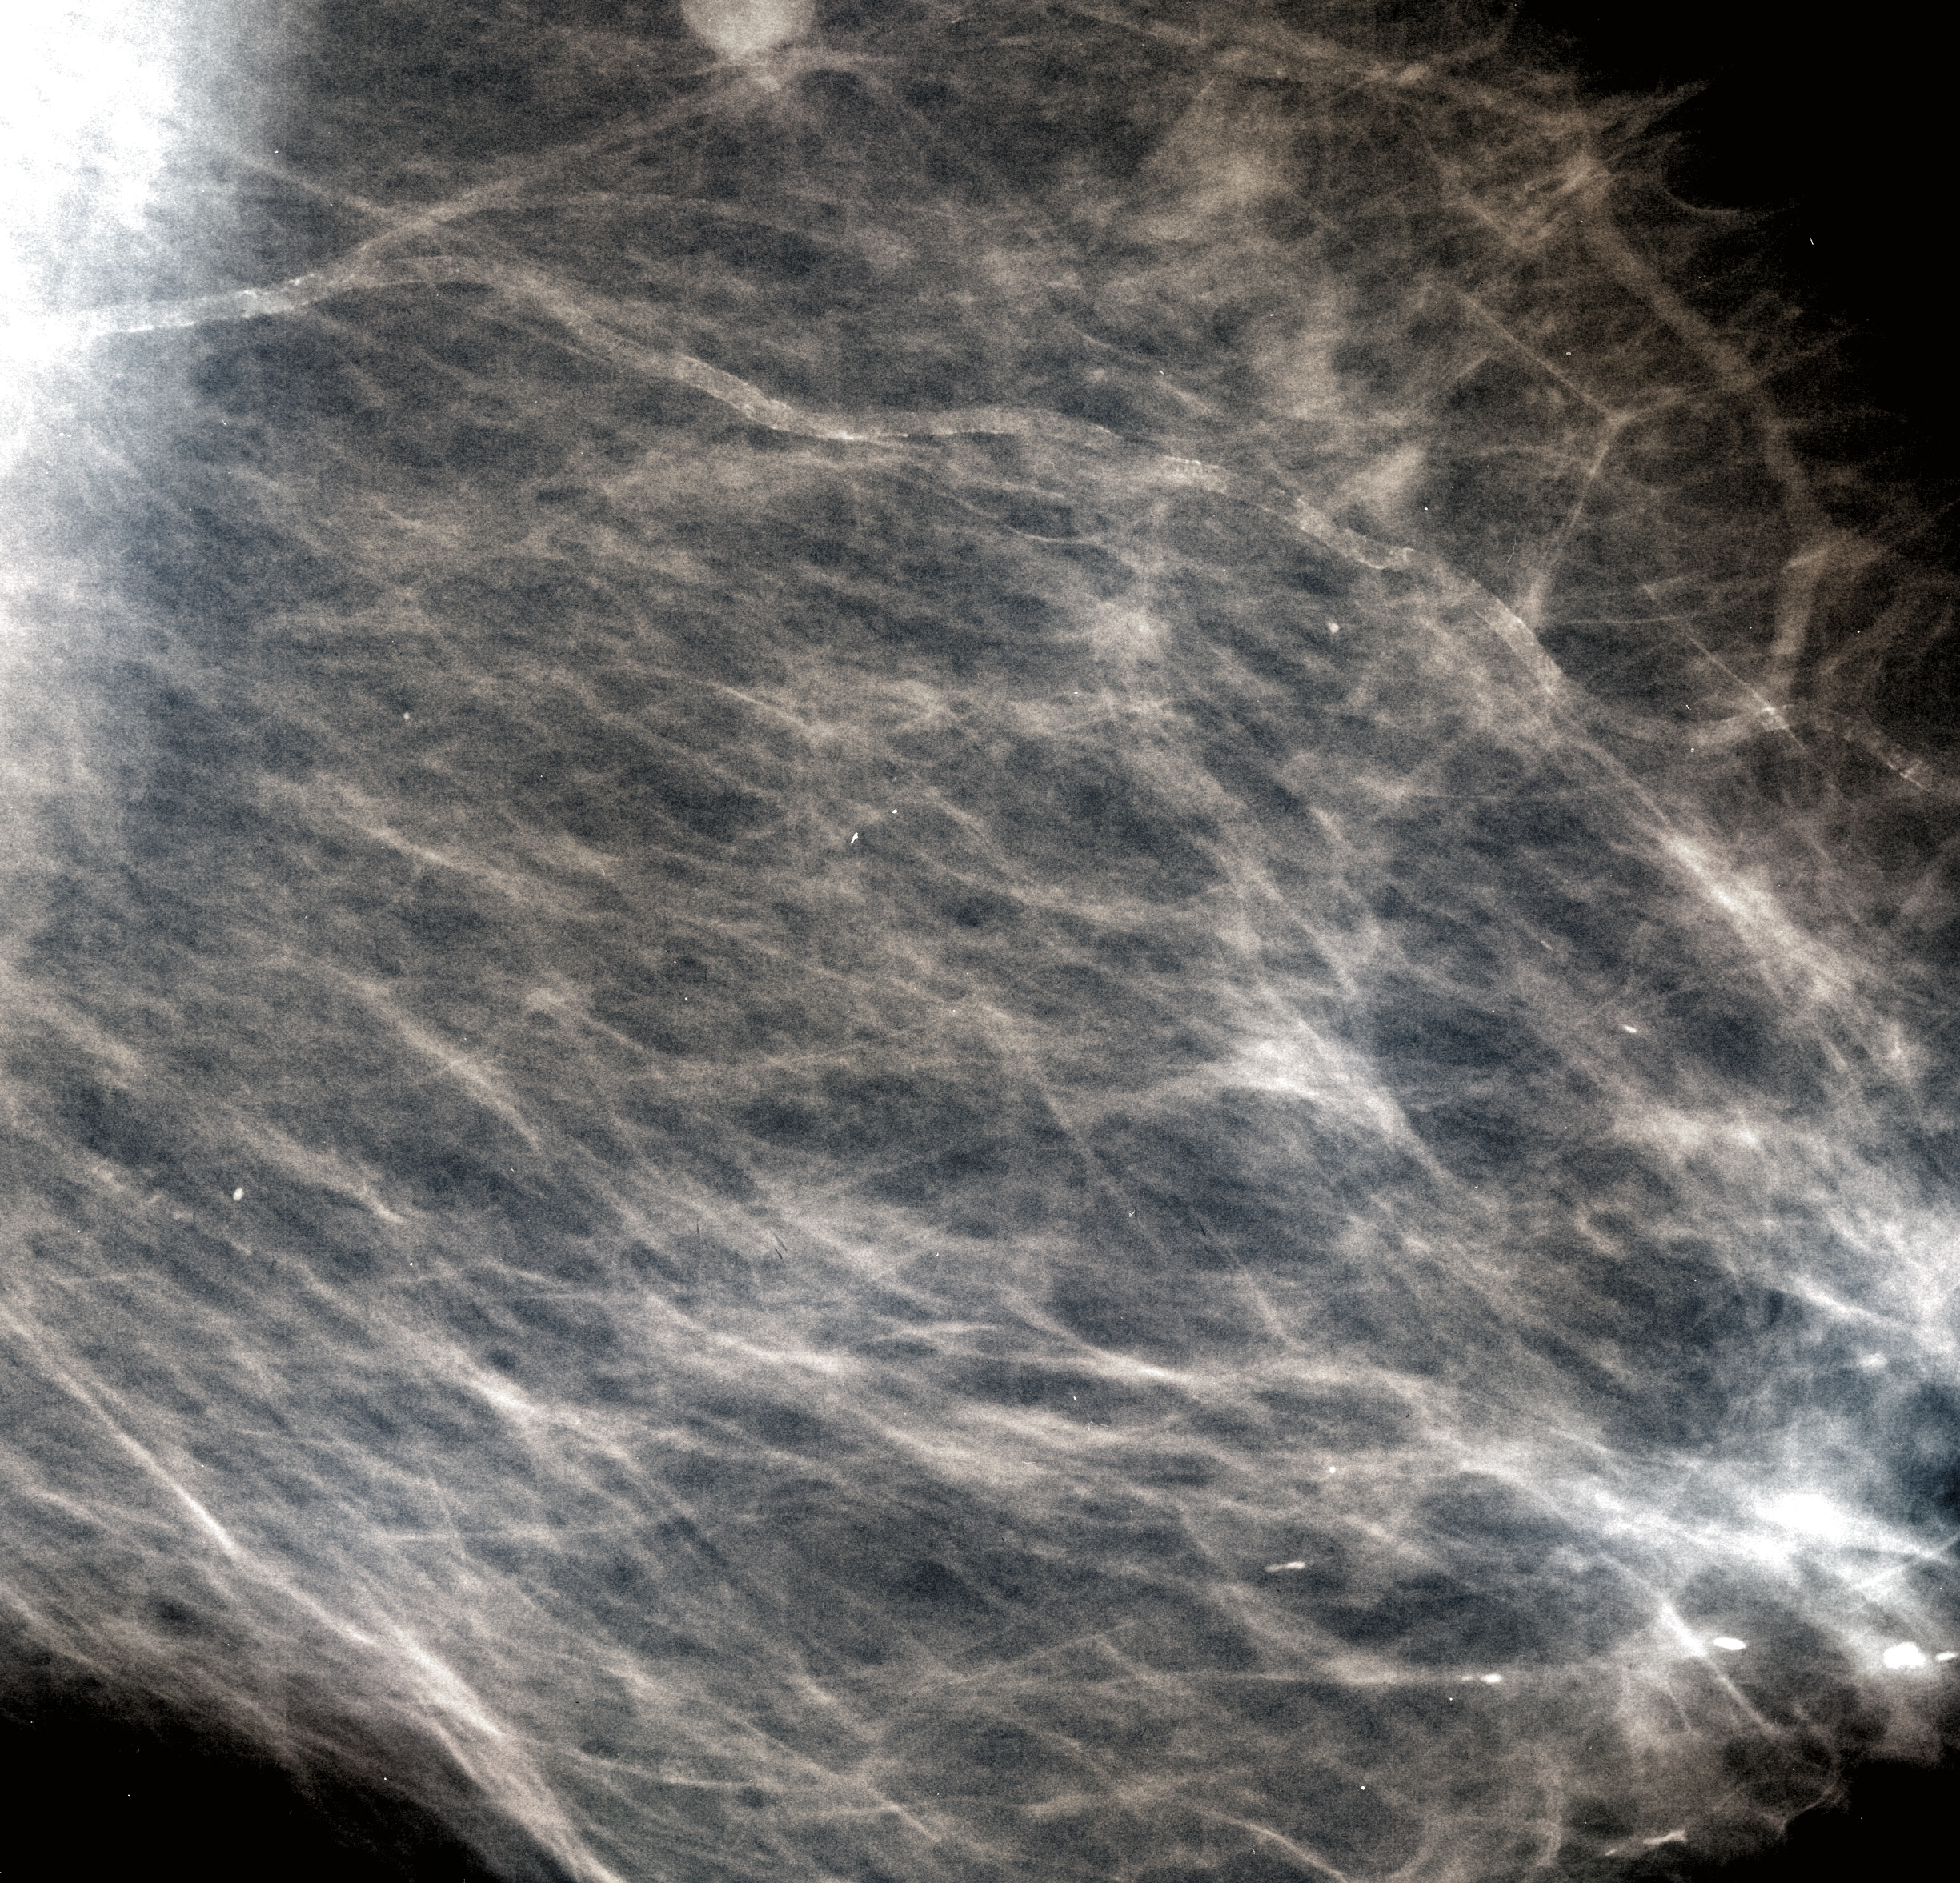tumor: (0, 0, 1627, 763), (1306, 1613, 1767, 1724), (1568, 1792, 1755, 1883), (1857, 1613, 1960, 1704)
